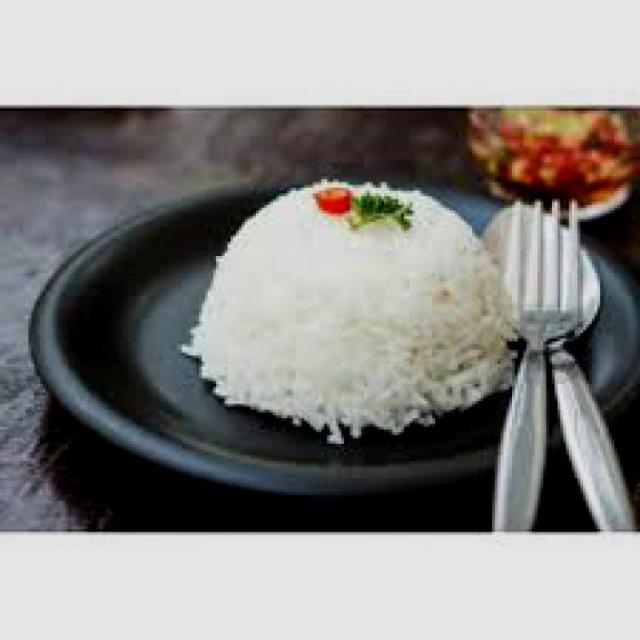rice: (195, 180, 515, 433)
